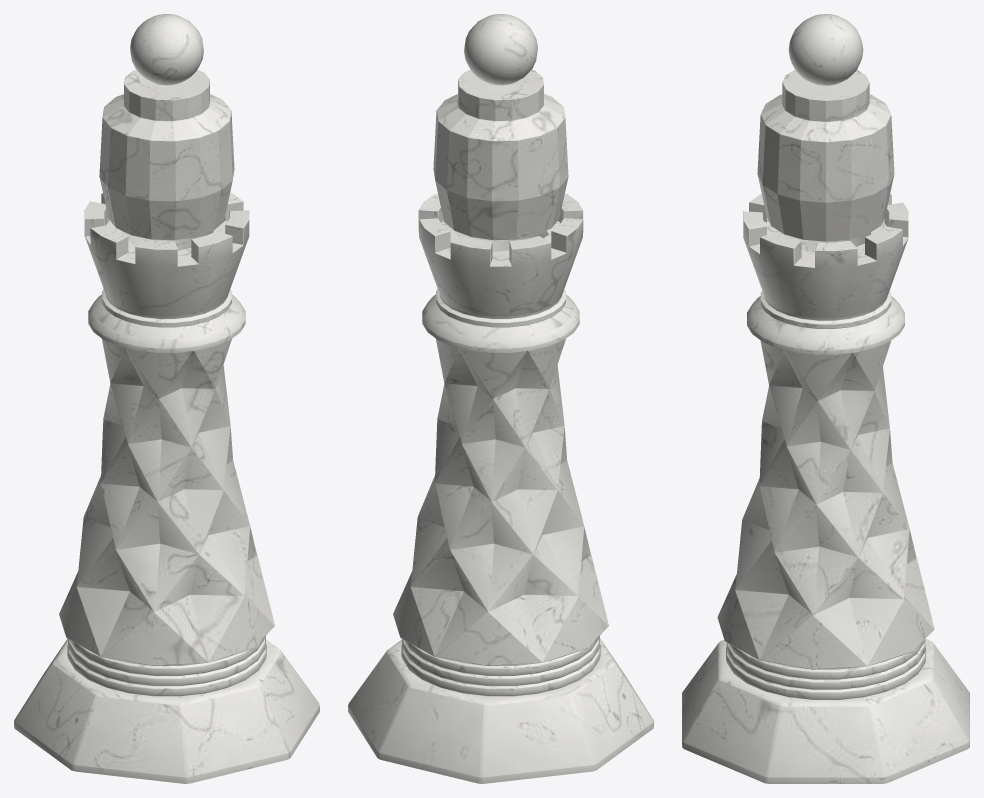
The model's file is marker-major.glb.
3 renders of one model, left to right at view 1: azimuth 30°, elevation 25°; view 2: azimuth 150°, elevation 25°; view 3: azimuth 270°, elevation 25°, orthographic.
Visible parts, largest first — view 1: Marker_Major_LOD1; view 2: Marker_Major_LOD1; view 3: Marker_Major_LOD1.
Part boxes in pixels (bbox=[...]): Marker_Major_LOD1: bbox=[14, 14, 319, 783]; Marker_Major_LOD1: bbox=[348, 14, 653, 783]; Marker_Major_LOD1: bbox=[682, 14, 969, 783].
Bounding box in the file's own units: 0.4619 × 1.25 × 0.4619.
1 material, 1 textured.
